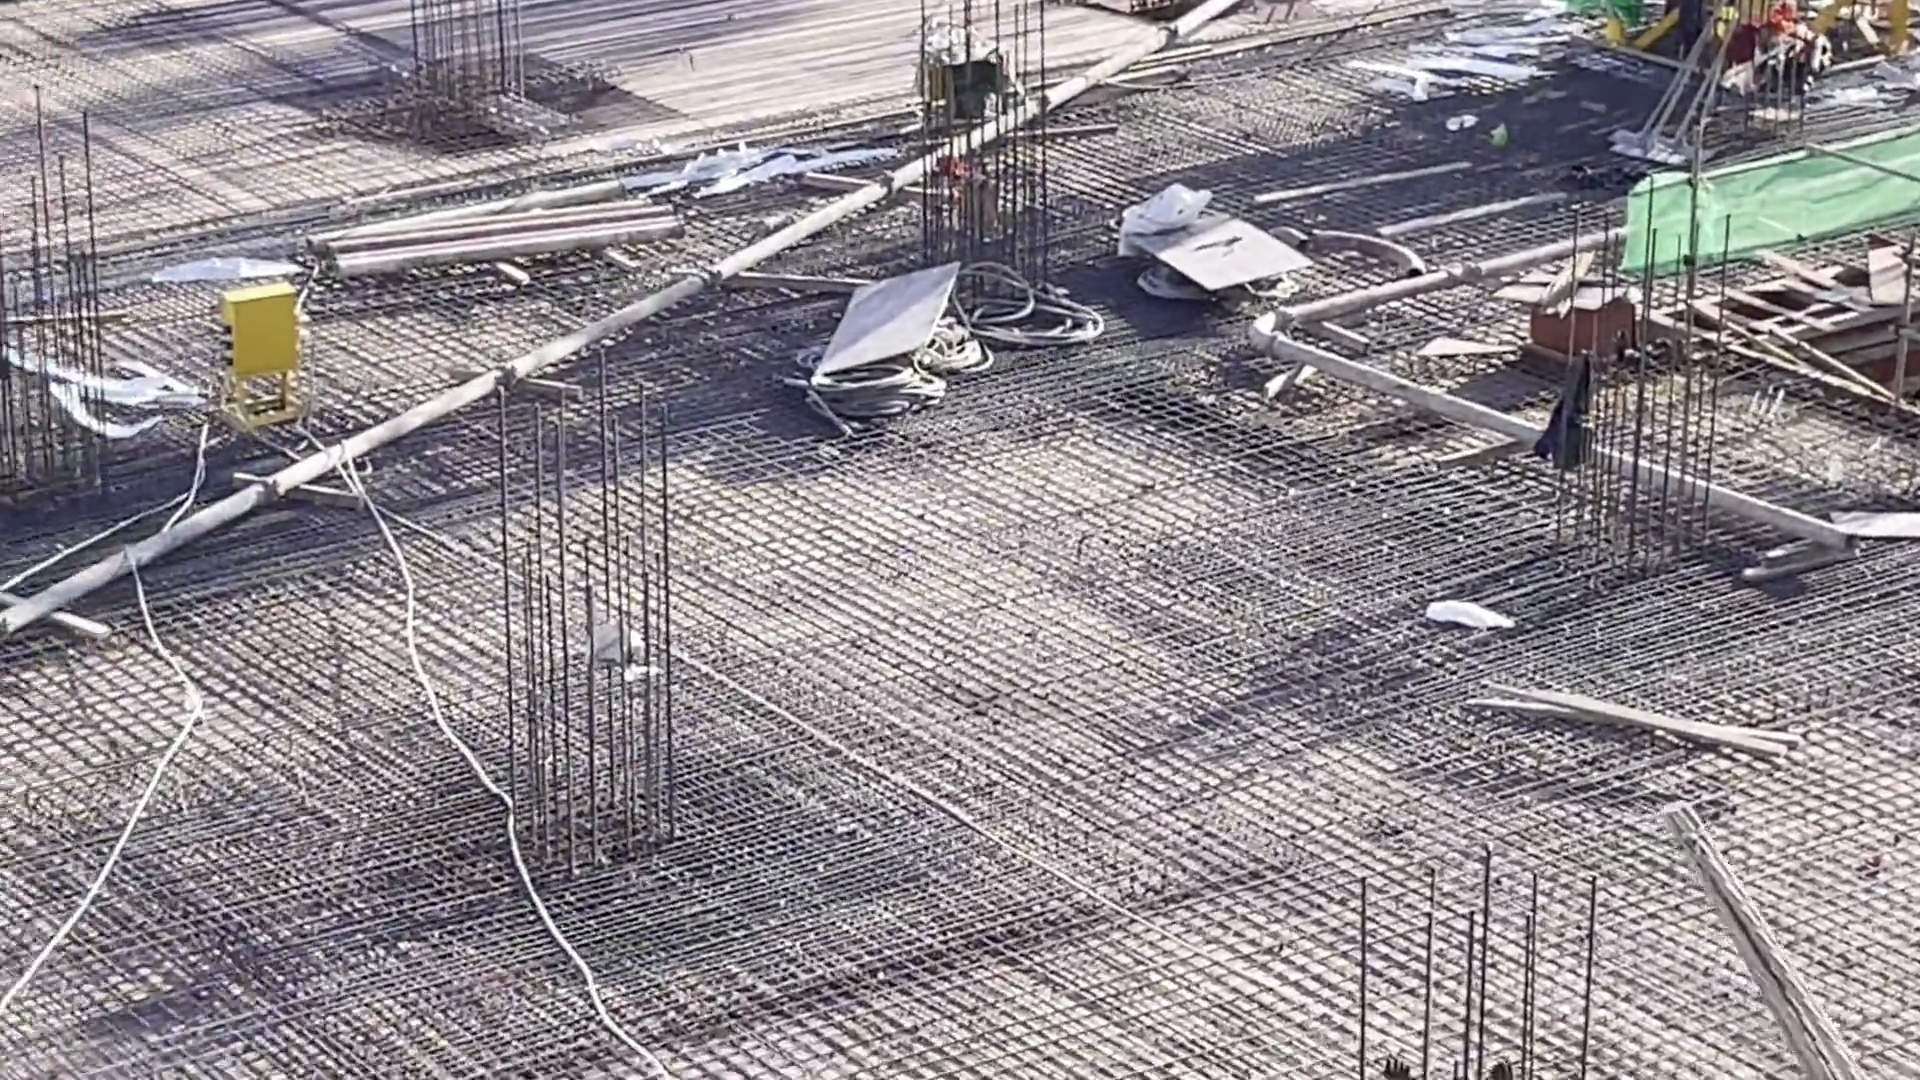ebox: (218, 287, 303, 388)
